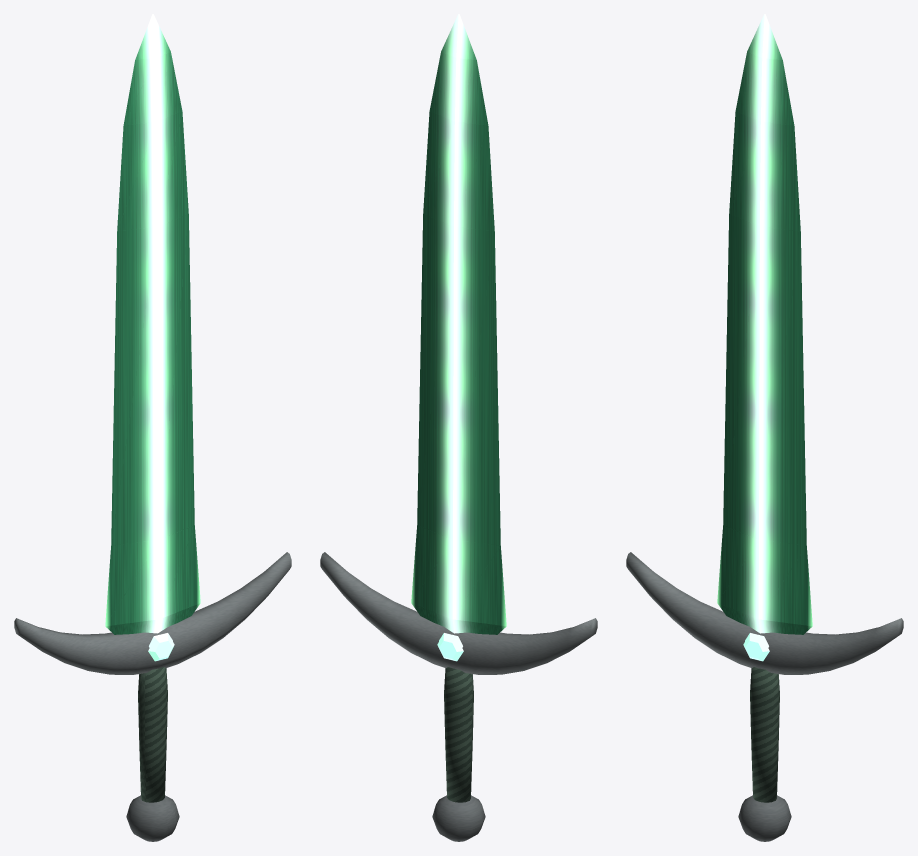
The model's file is sword.fbx.
The picture shows the model from 3 angles, left to right: view 1: azimuth 30°, elevation 25°; view 2: azimuth 150°, elevation 25°; view 3: azimuth 330°, elevation 25°; orthographic projection.
Visible parts, largest first — view 1: Sword; view 2: Sword; view 3: Sword.
Part boxes in pixels (x1,y1,x2,y2): Sword: (14, 14, 291, 841); Sword: (320, 14, 597, 841); Sword: (626, 14, 903, 841).
Size of the model in its own units: 68 by 197 by 11.6.
1 material, 1 textured.
